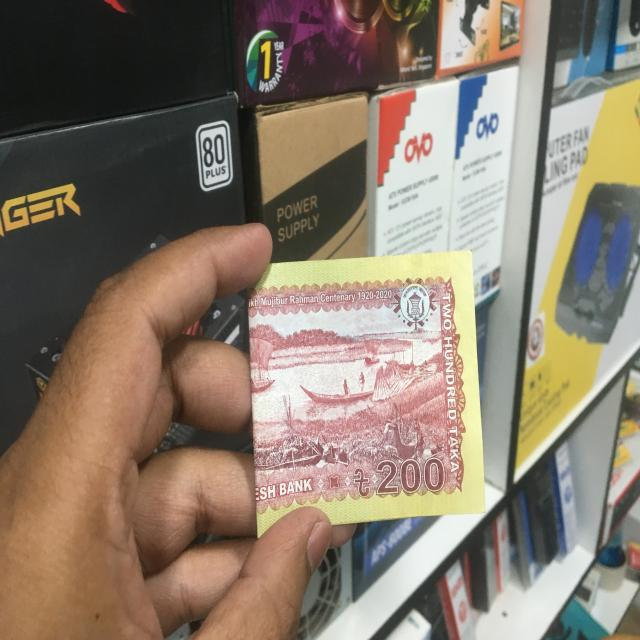Taka: (251, 266, 485, 520)
